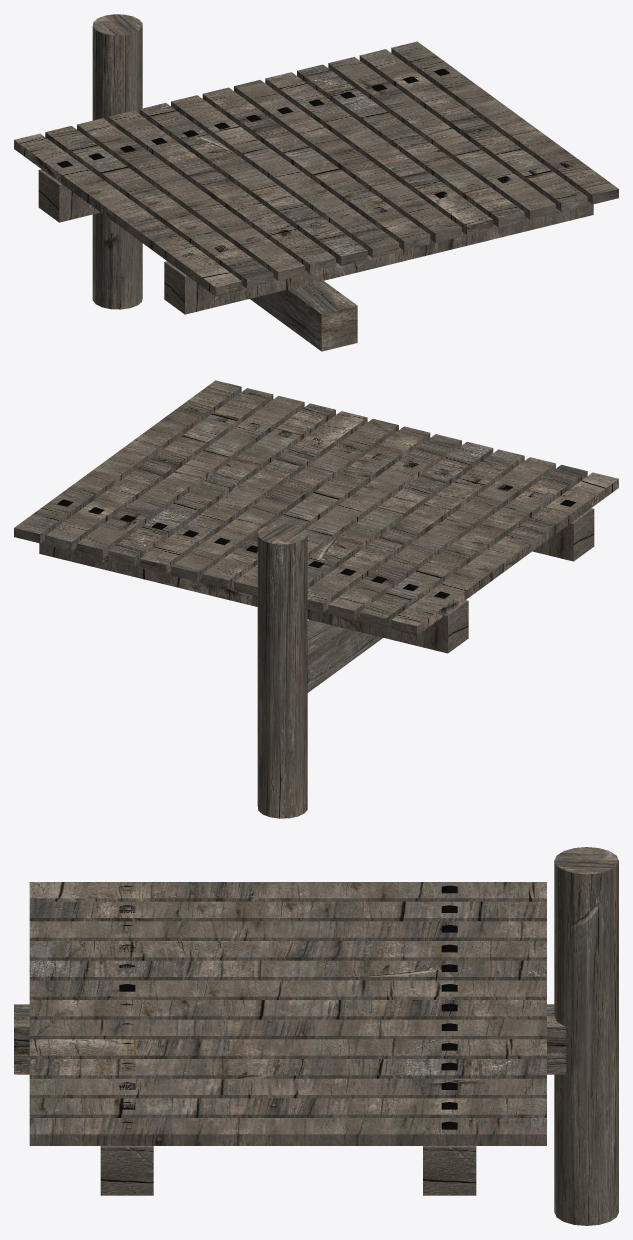
Rendered from MuelleModule.fbx.
3 views of the same model, one above another, from view 1: azimuth 30°, elevation 25°; view 2: azimuth 150°, elevation 25°; view 3: azimuth 270°, elevation 25° (orthographic). The views are drawn at different scales.
Parts seen in each view (by area): view 1: Dock module; view 2: Dock module; view 3: Dock module.
Part boxes in pixels (<box>): Dock module: <box>14,14,618,351</box>; Dock module: <box>14,380,618,818</box>; Dock module: <box>14,847,618,1225</box>.
Bounding box in the file's own units: 936 × 600 × 936.
3 materials, 2 textured.
